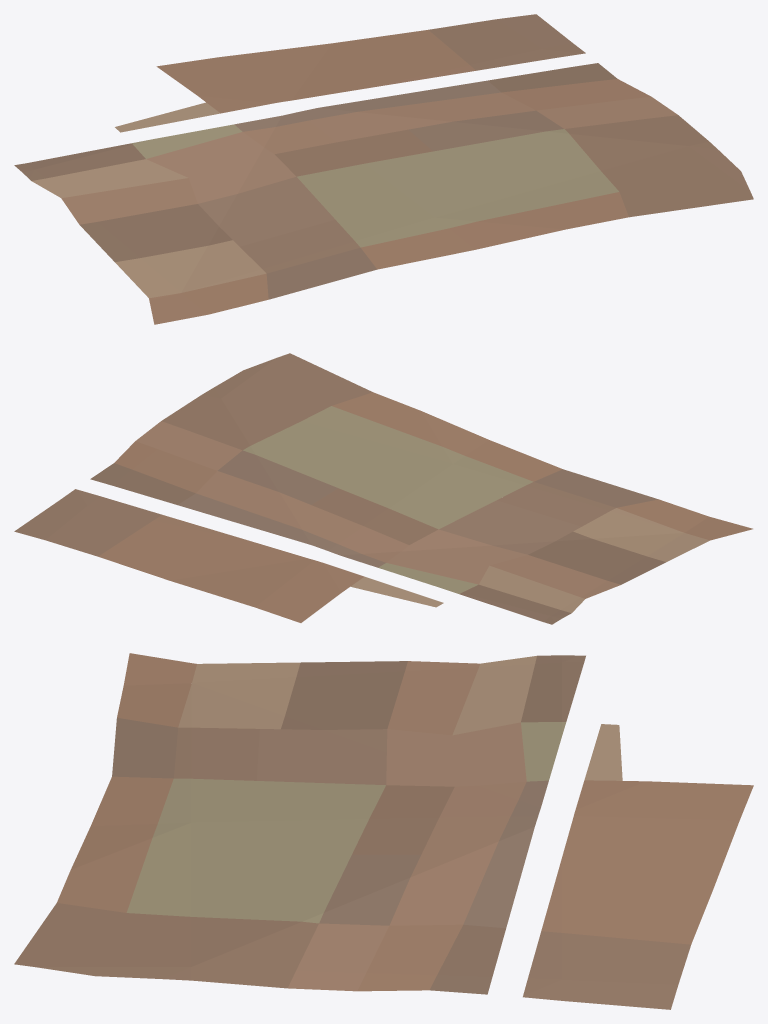
Rendered from farm_26_41_soil.glb.
3 renders of one model, top to bottom at view 1: azimuth 30°, elevation 25°; view 2: azimuth 150°, elevation 25°; view 3: azimuth 270°, elevation 25°, orthographic. The views are drawn at different scales.
Visible parts, largest first — view 1: geometry_0; view 2: geometry_0; view 3: geometry_0.
Boxes of the visible parts, x1,y1,x2,y2 form: geometry_0: (14, 14, 753, 324); geometry_0: (14, 353, 752, 624); geometry_0: (14, 653, 753, 1009).
Bounding box in the file's own units: 188 × 7.55 × 160.
